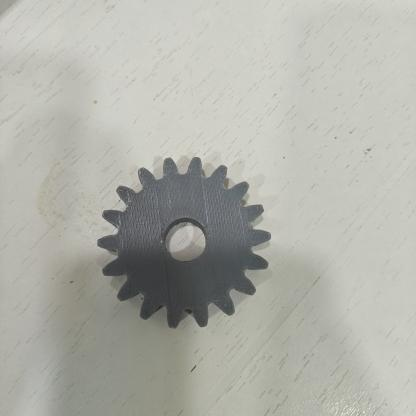gear: (72, 147, 290, 341)
